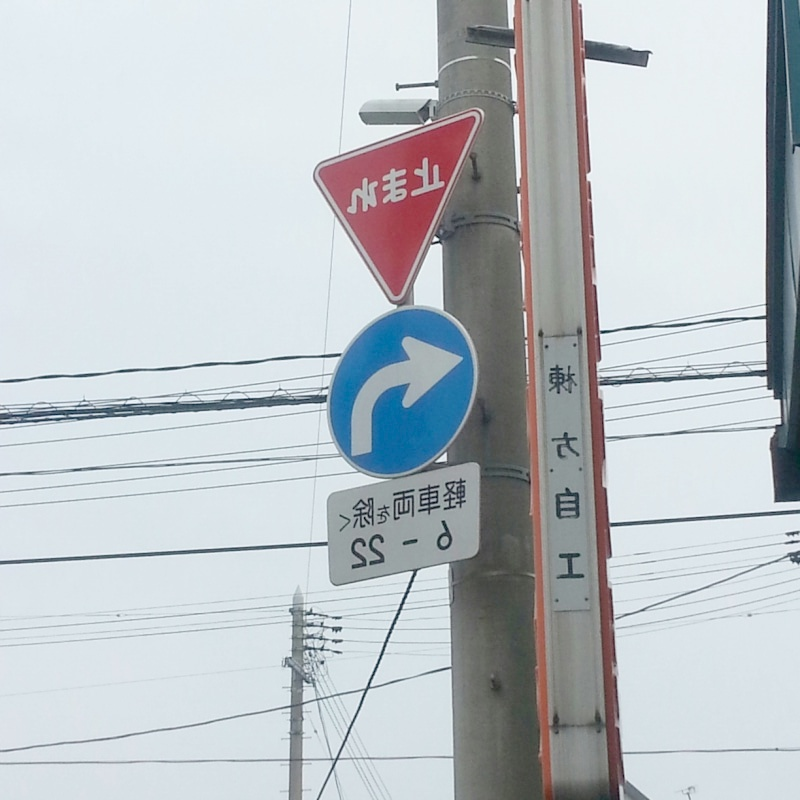Direction_sign: (322, 301, 497, 480)
